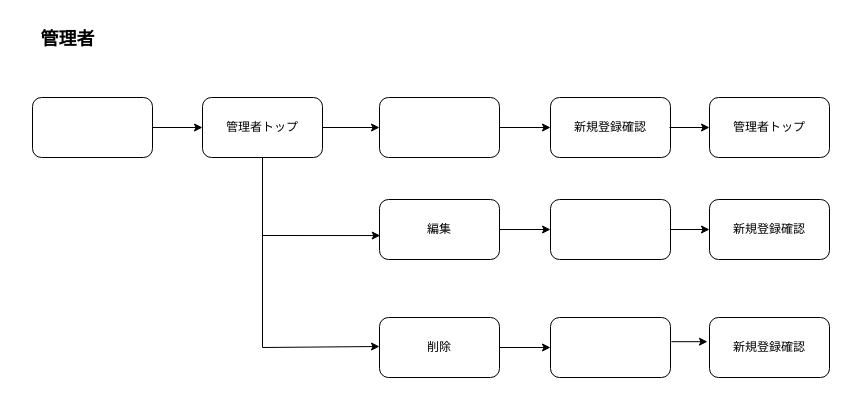
This 847x395 diagram has some shape labels left out. Each missing label, with the centre of its shape:
"ログイン画面" belongs at pixel 92 127.
"削除確認" belongs at pixel 610 347.
"新規登録" belongs at pixel 439 127.
"編集確認" belongs at pixel 610 229.
